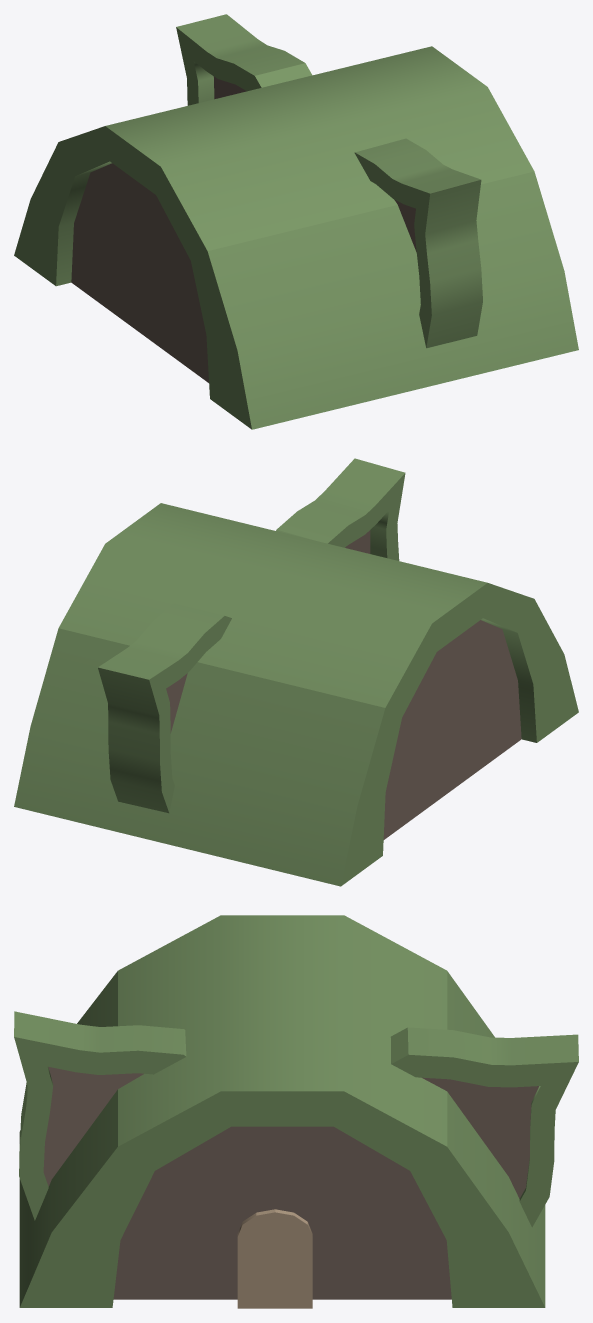
File: Casa_v2.fbx
3 views of the same model, one above another, from view 1: azimuth 30°, elevation 25°; view 2: azimuth 150°, elevation 25°; view 3: azimuth 270°, elevation 25° (orthographic). The views are drawn at different scales.
Parts seen in each view (by area): view 1: Pasto, Pared, Pasto_oreja, Pasto_oreja1; view 2: Pasto, Pared, Pasto_oreja1, Pasto_oreja; view 3: Pasto, Pared, Pasto_oreja1, Pasto_oreja, Puerta, Oreja1, Oreja.
Boxes of the visible parts, <box> form: Pasto: <box>14,46,578,429</box>; Pared: <box>71,163,208,382</box>; Pasto_oreja: <box>354,138,482,348</box>; Pasto_oreja1: <box>176,14,311,105</box>; Pasto: <box>14,503,578,886</box>; Pared: <box>383,620,521,839</box>; Pasto_oreja1: <box>98,603,231,813</box>; Pasto_oreja: <box>276,458,405,560</box>; Pasto: <box>19,915,545,1307</box>; Pared: <box>113,1126,451,1299</box>; Pasto_oreja1: <box>390,1027,578,1227</box>; Pasto_oreja: <box>14,1011,186,1220</box>; Puerta: <box>237,1209,312,1308</box>; Oreja1: <box>422,1077,538,1198</box>; Oreja: <box>43,1067,143,1186</box>.
Size of the model in its own units: 11.99 by 7.15 by 16.25.
